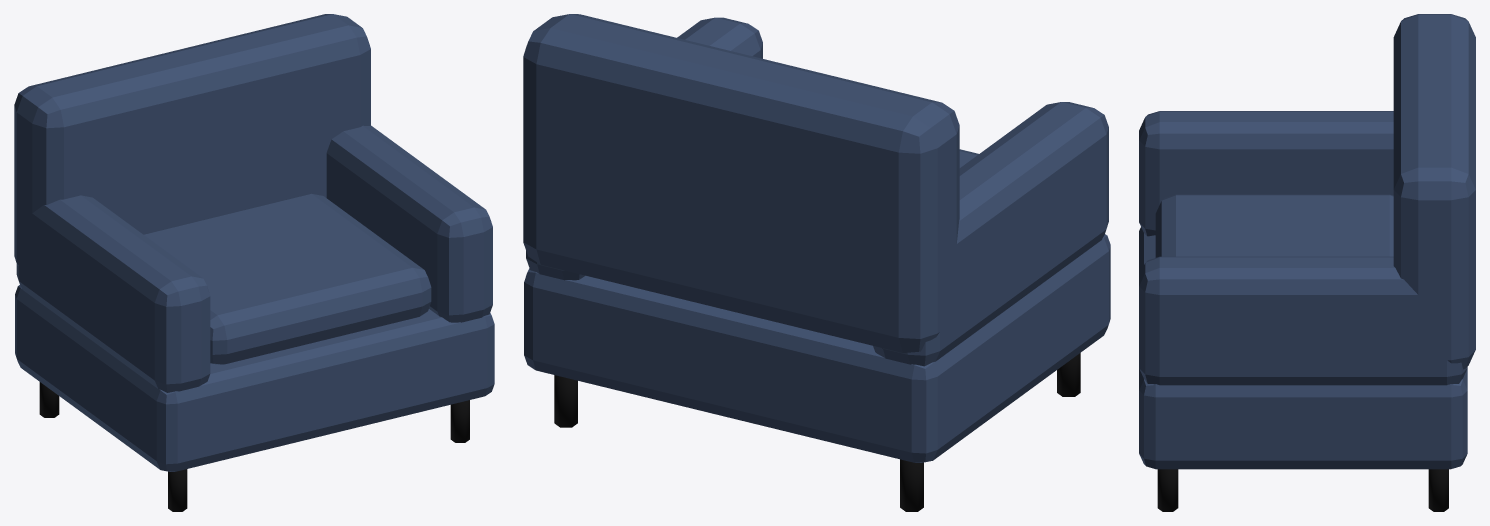
Rendered from armchair.glb.
The picture shows the model from 3 angles, left to right: view 1: azimuth 30°, elevation 25°; view 2: azimuth 150°, elevation 25°; view 3: azimuth 270°, elevation 25°; orthographic projection. The views are drawn at different scales.
Visible parts, largest first — view 1: armchair; view 2: armchair; view 3: armchair.
Boxes of the visible parts, bbox=[...] form: armchair: bbox=[14, 14, 494, 511]; armchair: bbox=[523, 14, 1110, 511]; armchair: bbox=[1139, 14, 1475, 511].
Bounding box in the file's own units: 1 × 0.925 × 0.82.
Materials: 1 (1 with a texture image).
